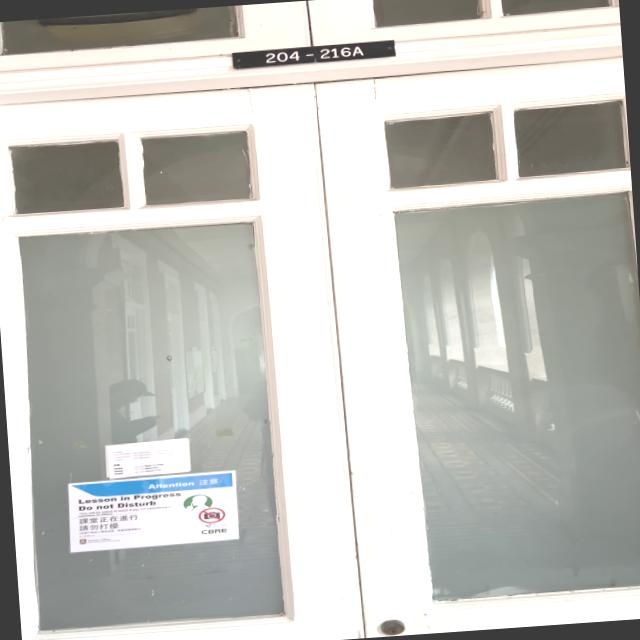room204: (226, 37, 396, 70)
